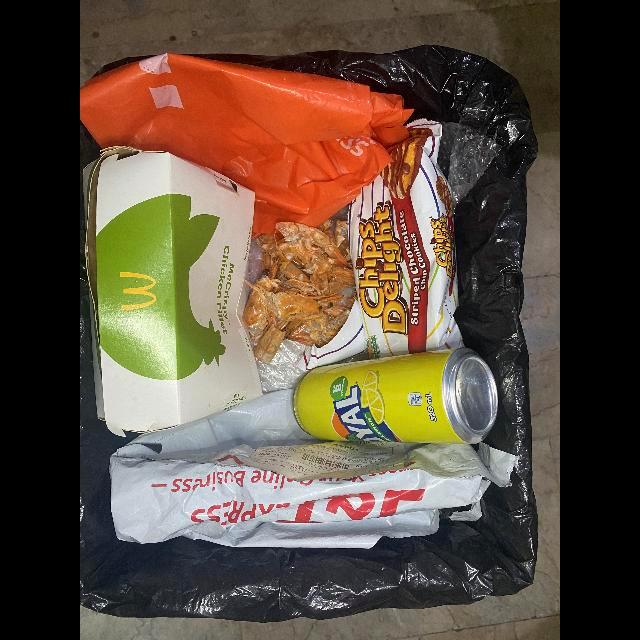aluminum: (292, 347, 498, 445)
cardboard: (82, 147, 263, 438)
food_wrapper: (294, 119, 464, 372)
left_over_food: (242, 221, 355, 366)
plastic_bag: (109, 388, 489, 551), (80, 54, 415, 237)
